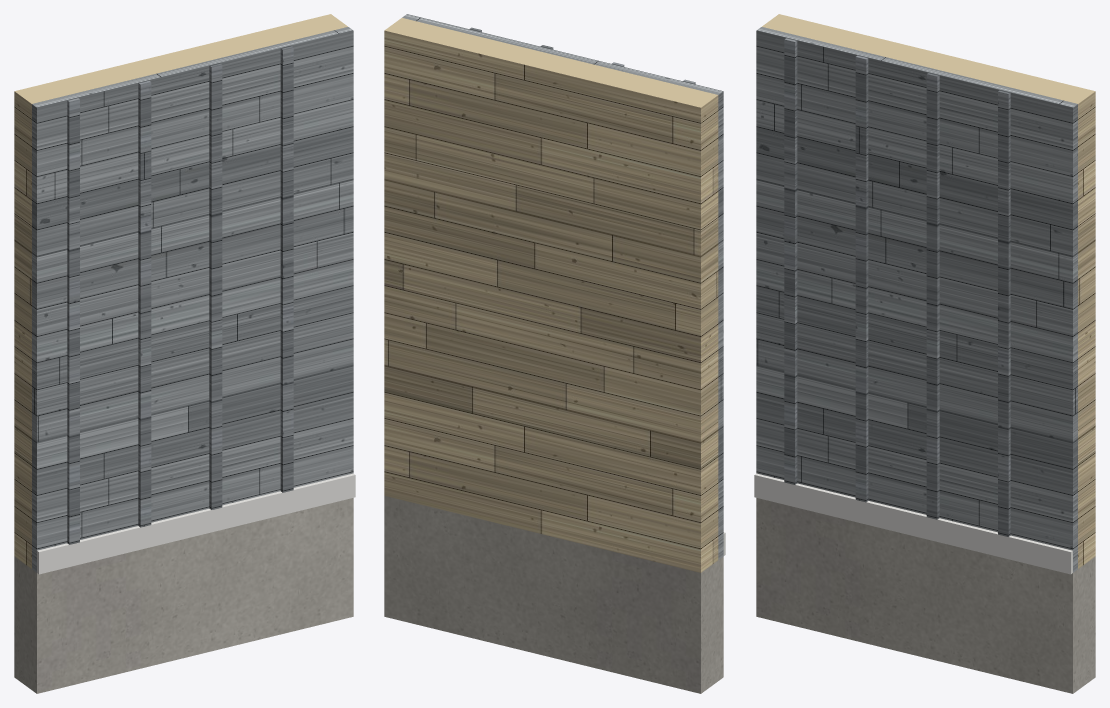
The model's file is o_plain_r.glb.
3 renders of one model, left to right at view 1: azimuth 30°, elevation 25°; view 2: azimuth 150°, elevation 25°; view 3: azimuth 330°, elevation 25°, orthographic.
Parts seen in each view (by area): view 1: o_plain_r_siding, o_plain_r_concrete, o_plain_r_batten, o_plain_r_plaster, o_plain_r_trim; view 2: o_plain_r_plaster, o_plain_r_concrete, o_plain_r_siding; view 3: o_plain_r_siding, o_plain_r_concrete, o_plain_r_batten, o_plain_r_plaster, o_plain_r_trim.
Boxes of the visible parts, box(x1,y1,x2,y2) form: o_plain_r_siding: box(32, 27, 353, 572); o_plain_r_concrete: box(14, 498, 353, 693); o_plain_r_batten: box(67, 46, 293, 544); o_plain_r_plaster: box(14, 14, 347, 568); o_plain_r_trim: box(37, 473, 355, 574); o_plain_r_plaster: box(384, 18, 718, 572); o_plain_r_concrete: box(384, 496, 723, 693); o_plain_r_siding: box(402, 14, 723, 559); o_plain_r_siding: box(756, 27, 1077, 572); o_plain_r_concrete: box(756, 498, 1095, 693); o_plain_r_batten: box(784, 38, 1010, 536); o_plain_r_plaster: box(762, 14, 1095, 568); o_plain_r_trim: box(754, 473, 1072, 574).
Size of the model in its own units: 1.78 by 3.15 by 0.242.
5 materials, 4 textured.
